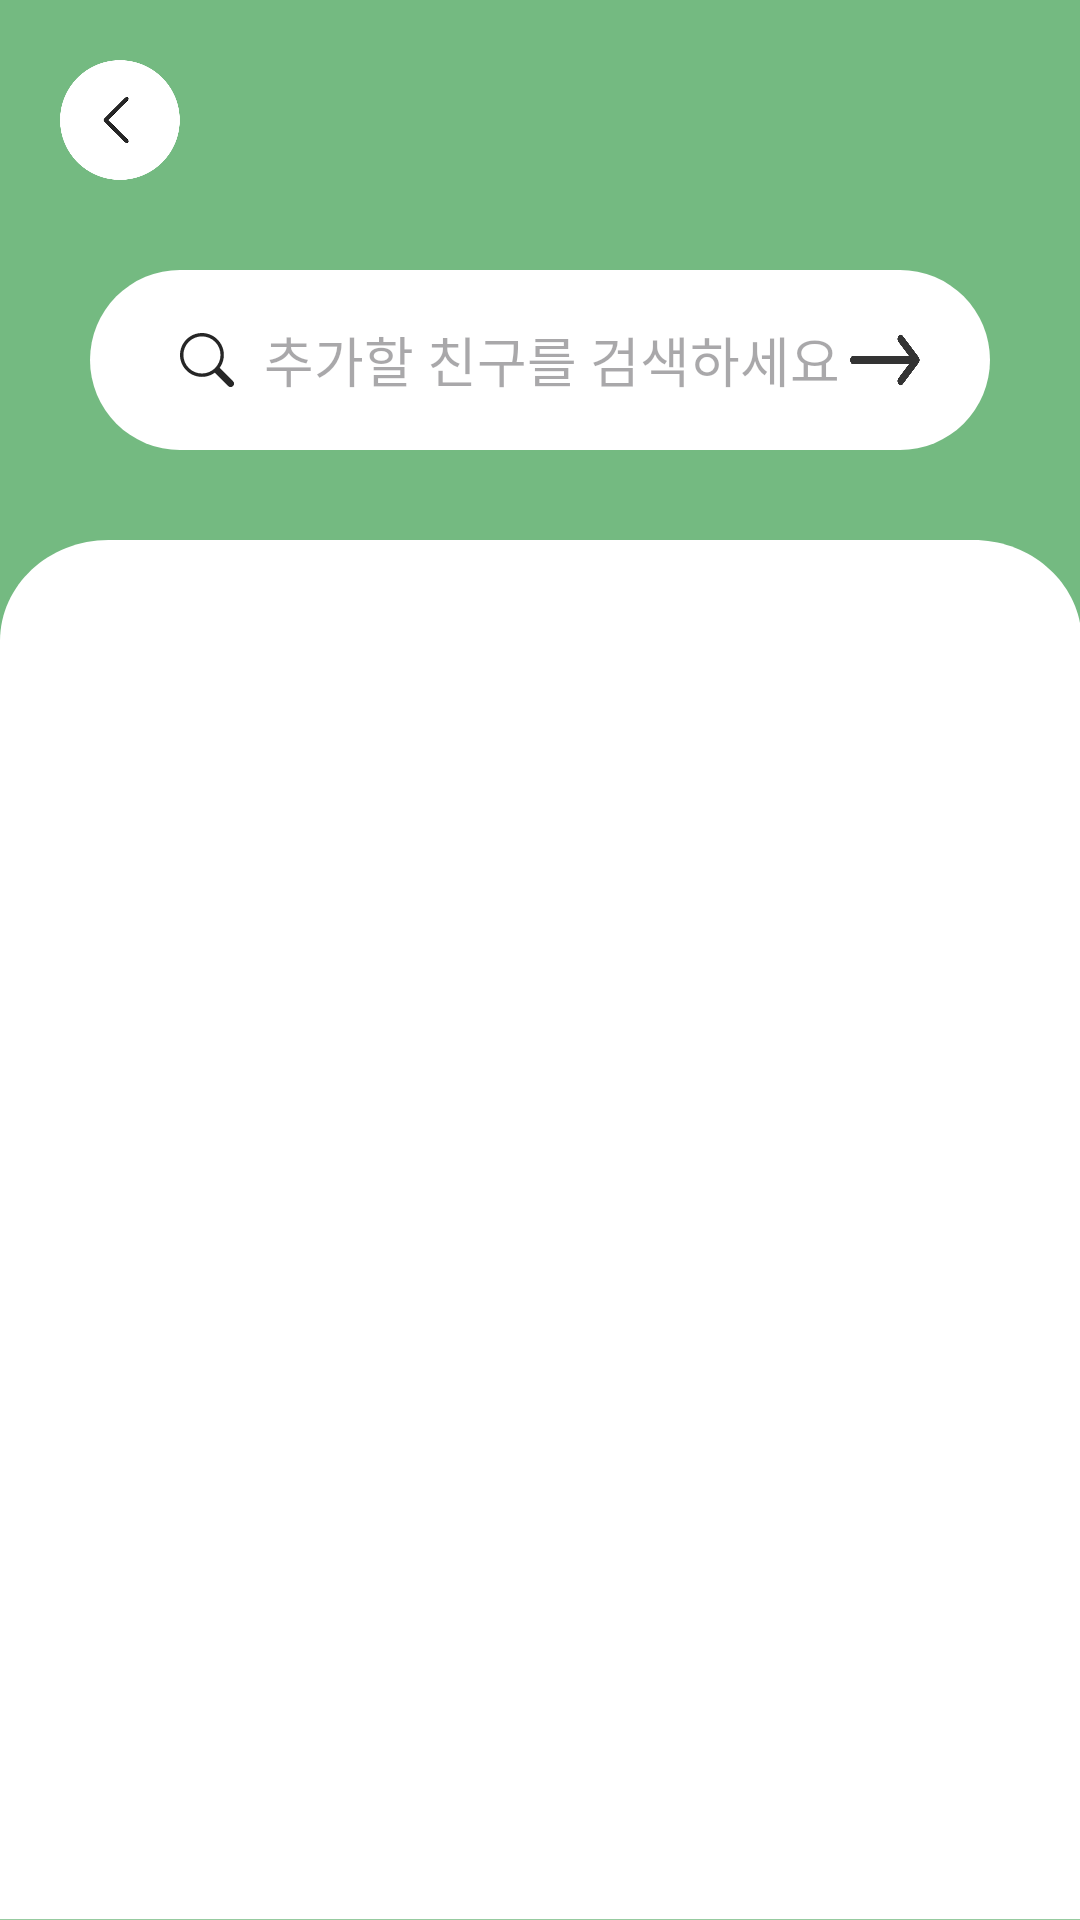

Named icons in this screenshot (1080×1920) and their centers, [x,y]:
return back: [120,120]
